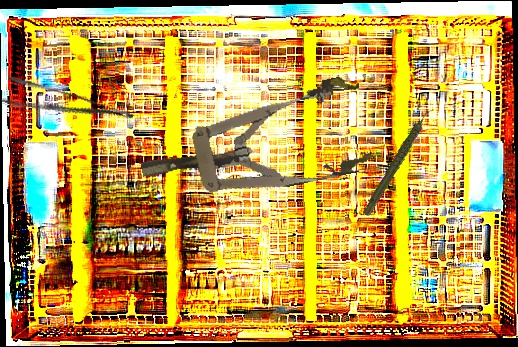Dressing Forceps: (0, 73, 135, 142)
Handpiece: (343, 105, 456, 219)
Speculum: (131, 73, 377, 216)
